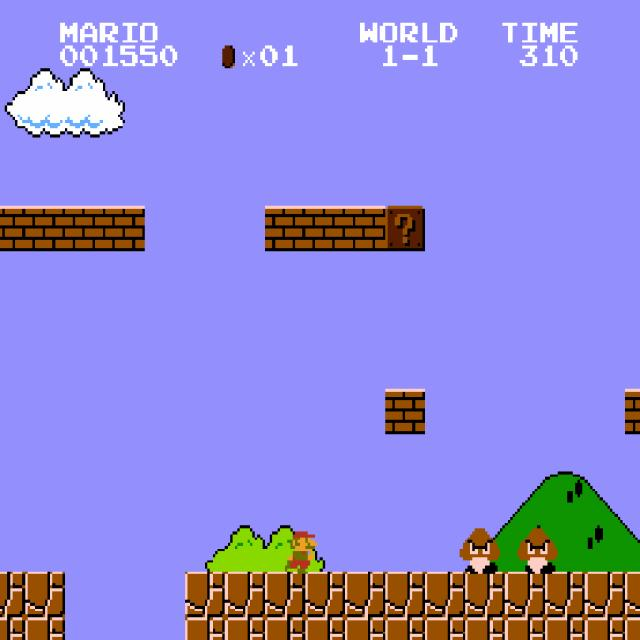brick_block: (25, 206, 65, 251), (65, 206, 105, 251), (105, 206, 145, 251), (265, 206, 305, 251), (305, 206, 345, 251), (345, 206, 385, 251), (385, 389, 425, 434), (0, 205, 25, 251), (625, 389, 640, 434)
goomba: (457, 526, 500, 574), (515, 526, 558, 574)
little_mario: (277, 526, 320, 574)
mystery_block: (385, 206, 425, 251)
undestructible_block: (25, 572, 65, 617), (185, 572, 225, 617), (225, 572, 265, 617), (265, 572, 305, 617), (305, 572, 345, 617), (345, 572, 385, 617), (385, 572, 425, 617), (425, 572, 465, 617), (465, 572, 505, 617), (505, 572, 545, 617), (545, 572, 585, 617), (585, 572, 625, 617), (0, 571, 25, 617), (25, 617, 65, 640), (185, 617, 225, 640), (225, 617, 265, 640), (265, 617, 305, 640), (305, 617, 345, 640), (345, 617, 385, 640), (385, 617, 425, 640), (425, 617, 465, 640), (465, 617, 505, 640), (505, 617, 545, 640), (545, 617, 585, 640), (585, 617, 625, 640), (625, 572, 640, 617), (0, 617, 25, 639), (625, 617, 640, 640)
